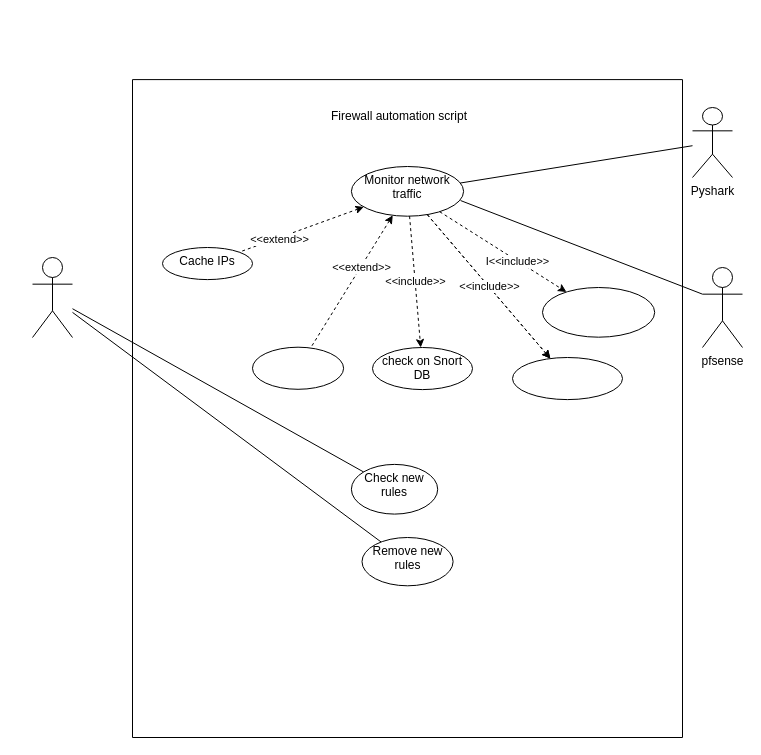
Some shapes in this 761 by 755 pixel diagram are drawn without their labels. Here are the shapes that lost their labels. From the top down, the centre of each, then its label:
At [52,297]: "Administrator".
At [598,311]: "Check on Project honeypot DB".
At [298,367]: "Adjust firewall rules".
At [567,378]: "Check on Tor exit node DB".
